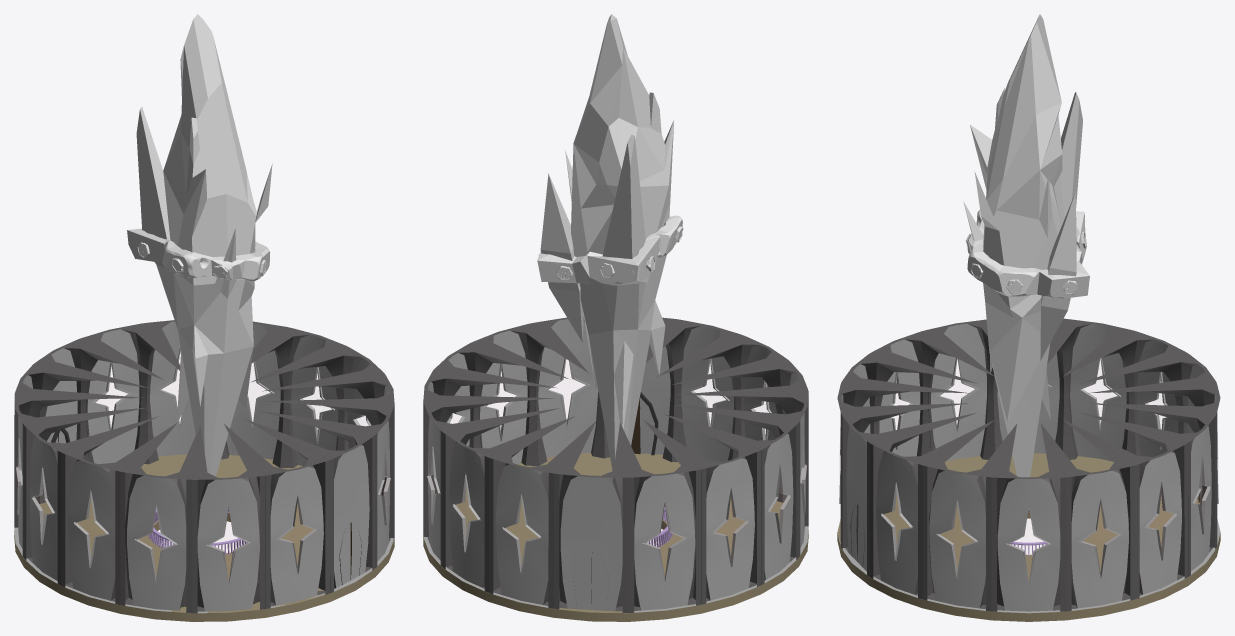
File: Walls.fbx
The picture shows the model from 3 angles, left to right: view 1: azimuth 30°, elevation 25°; view 2: azimuth 150°, elevation 25°; view 3: azimuth 270°, elevation 25°; orthographic projection.
Parts seen in each view (by area): view 1: Cylinder.001, Cube.001, Cylinder, Cube.002_dmg, Cylinder.003, Cylinder.007_dmg; view 2: Cylinder.001, Cube.001, Cylinder, Cube.002_dmg, Cylinder.007_dmg, Circle.001; view 3: Cylinder.001, Cube.001, Cylinder, Cube.002_dmg, Cylinder.007_dmg.
Boxes of the visible parts, left/top/right/bottom form: Cylinder.001: left=14, top=320, right=394, bottom=613; Cube.001: left=136, top=14, right=272, bottom=476; Cylinder: left=14, top=454, right=394, bottom=621; Cube.002_dmg: left=127, top=228, right=270, bottom=281; Cylinder.003: left=148, top=508, right=247, bottom=555; Cylinder.007_dmg: left=137, top=242, right=266, bottom=279; Cylinder.001: left=423, top=317, right=808, bottom=612; Cube.001: left=540, top=14, right=674, bottom=470; Cylinder: left=423, top=452, right=808, bottom=621; Cube.002_dmg: left=537, top=215, right=682, bottom=285; Cylinder.007_dmg: left=538, top=226, right=683, bottom=280; Circle.001: left=631, top=392, right=658, bottom=455; Cylinder.001: left=837, top=318, right=1220, bottom=613; Cube.001: left=963, top=14, right=1082, bottom=477; Cylinder: left=837, top=453, right=1220, bottom=621; Cube.002_dmg: left=967, top=210, right=1089, bottom=298; Cylinder.007_dmg: left=966, top=231, right=1086, bottom=294.
Size of the model in its own units: 2000 by 3032 by 2000.
